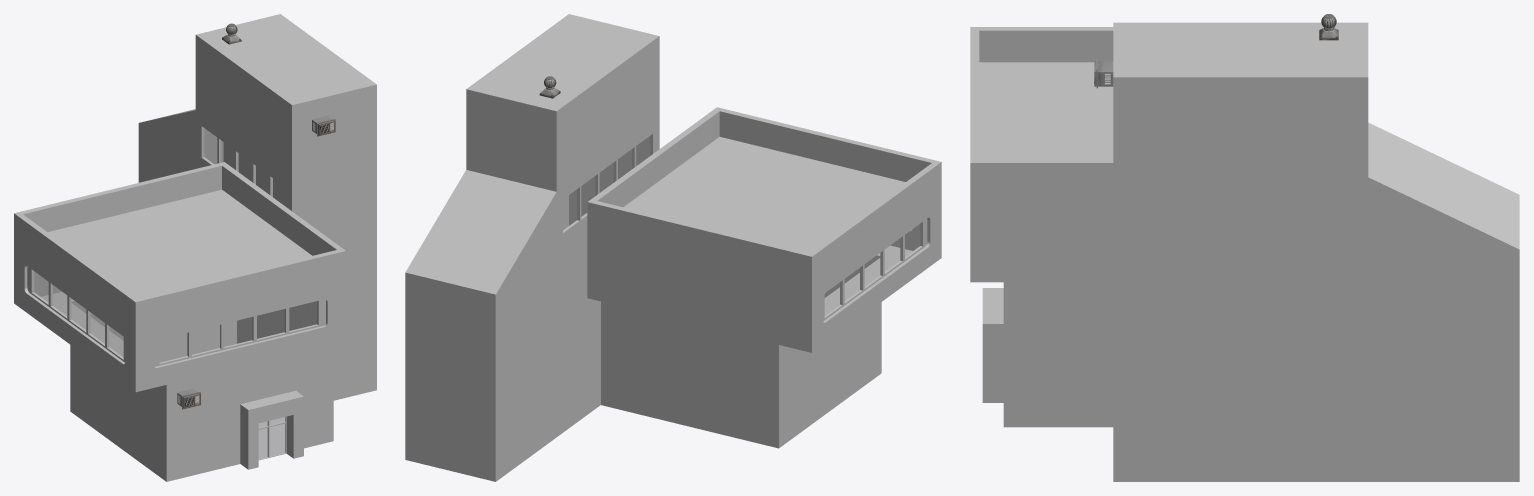
3 views of the same model, side by side, from view 1: azimuth 30°, elevation 25°; view 2: azimuth 150°, elevation 25°; view 3: azimuth 270°, elevation 25° (orthographic). The views are drawn at different scales.
Visible parts, largest first — view 1: Cube_0, Cube.001_1, Wall-mounted air conditioner.001_2, Wall-mounted air conditioner.002_3; view 2: Cube_0, Cube.001_1; view 3: Cube_0.
Part boxes in pixels (<box>): Cube_0: <box>14,14,376,481</box>; Cube.001_1: <box>34,129,316,458</box>; Wall-mounted air conditioner.001_2: <box>177,388,200,409</box>; Wall-mounted air conditioner.002_3: <box>312,116,335,136</box>; Cube_0: <box>405,14,941,481</box>; Cube.001_1: <box>563,136,919,314</box>; Cube_0: <box>970,22,1519,481</box>.
Size of the model in its own units: 3.54 by 3.68 by 4.31.
